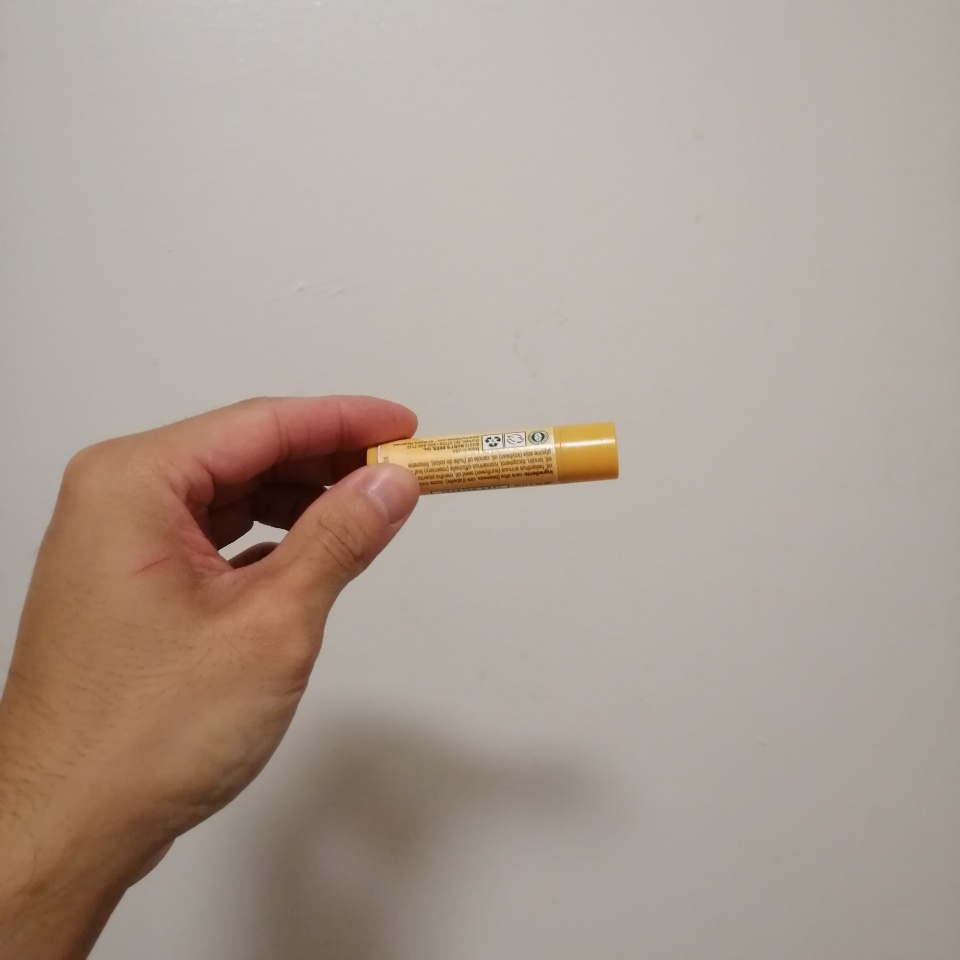chapstick: (366, 422, 620, 496)
